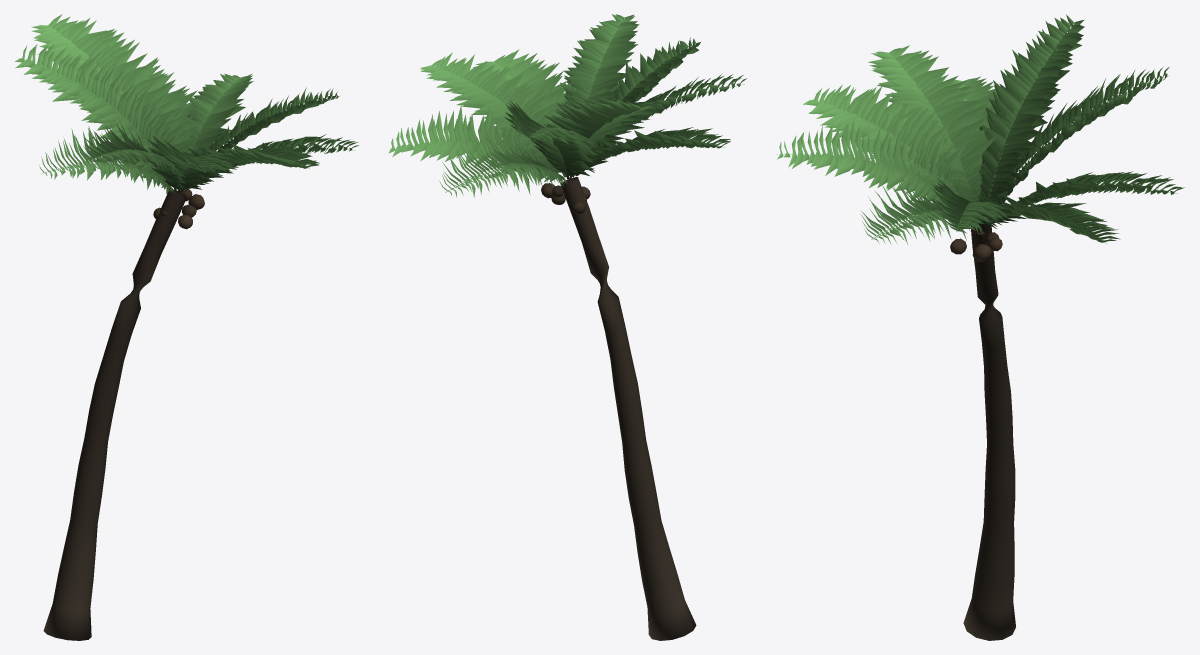
Rendered from SM_Palm_05_Coconut.fbx.
3 views of the same model, side by side, from view 1: azimuth 30°, elevation 25°; view 2: azimuth 150°, elevation 25°; view 3: azimuth 270°, elevation 25° (orthographic). The views are drawn at different scales.
Visible parts, largest first — view 1: SM_Palm_05_Coconut; view 2: SM_Palm_05_Coconut; view 3: SM_Palm_05_Coconut.
Boxes of the visible parts, <box> form: SM_Palm_05_Coconut: <box>15,14,358,640</box>; SM_Palm_05_Coconut: <box>388,14,746,640</box>; SM_Palm_05_Coconut: <box>776,14,1184,640</box>.
Bounding box in the file's own units: 448 × 800 × 485.
